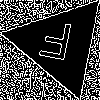F: (35, 19, 76, 70)
